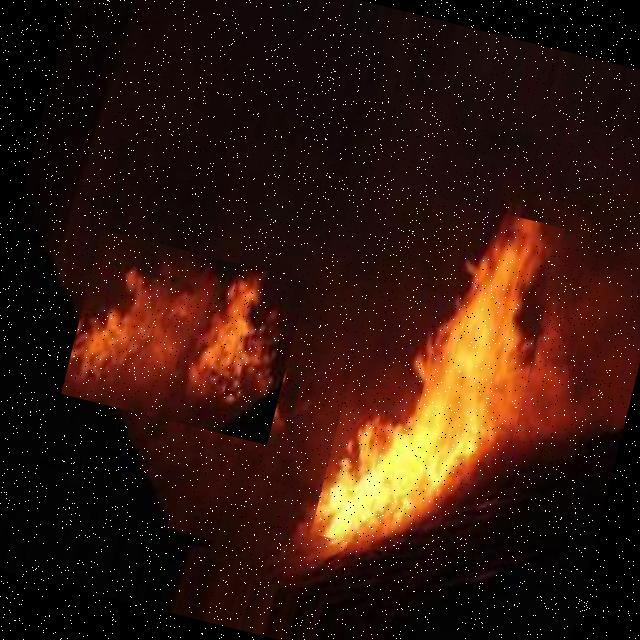fire: (310, 186, 564, 574), (60, 230, 308, 444)
